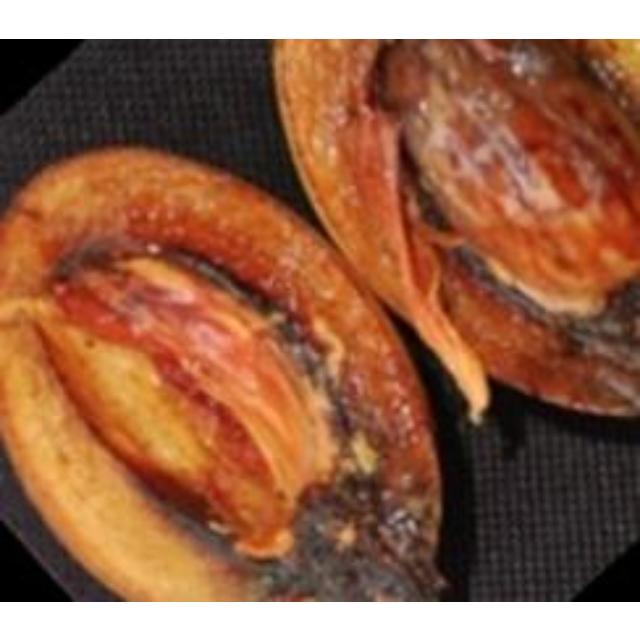damaged: (0, 143, 459, 599), (270, 38, 637, 421)
